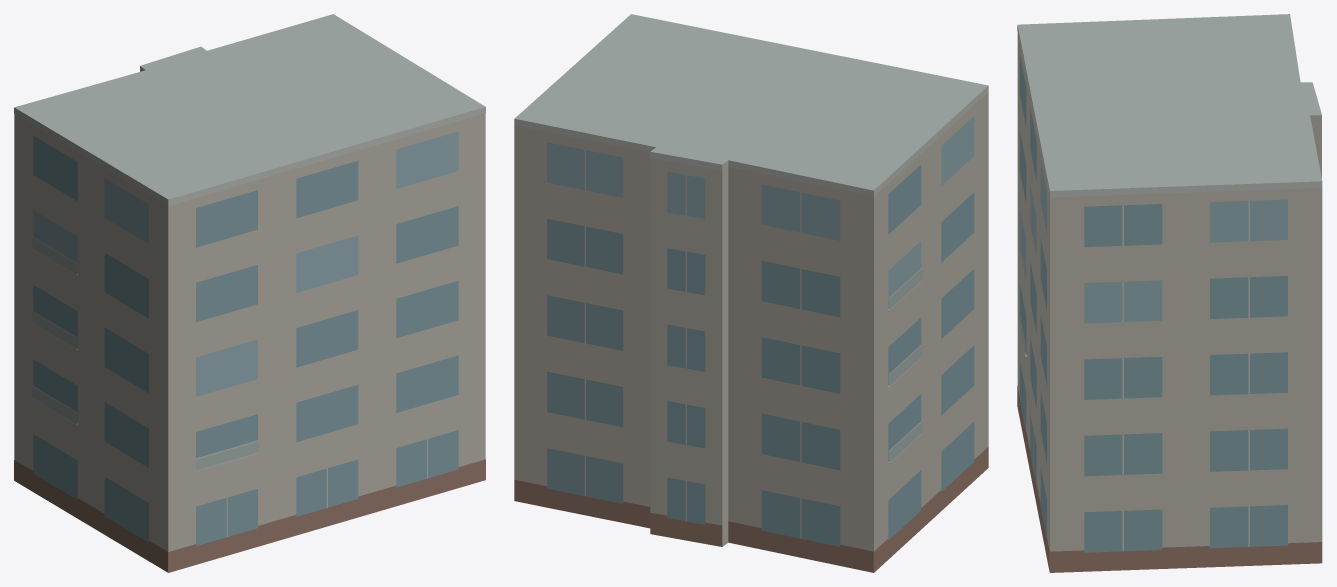
Rendered from survey-upis-32748167.glb.
3 renders of one model, left to right at view 1: azimuth 30°, elevation 25°; view 2: azimuth 150°, elevation 25°; view 3: azimuth 270°, elevation 25°, orthographic. The views are drawn at different scales.
Visible parts, largest first — view 1: survey-upis-32748167.tmp; view 2: survey-upis-32748167.tmp; view 3: survey-upis-32748167.tmp.
Part boxes in pixels (x1=…): survey-upis-32748167.tmp: x1=14, y1=14, x2=485, y2=572; survey-upis-32748167.tmp: x1=514, y1=14, x2=988, y2=572; survey-upis-32748167.tmp: x1=1017, y1=14, x2=1322, y2=572.
Size of the model in its own units: 14.12 by 14.2 by 10.28.
